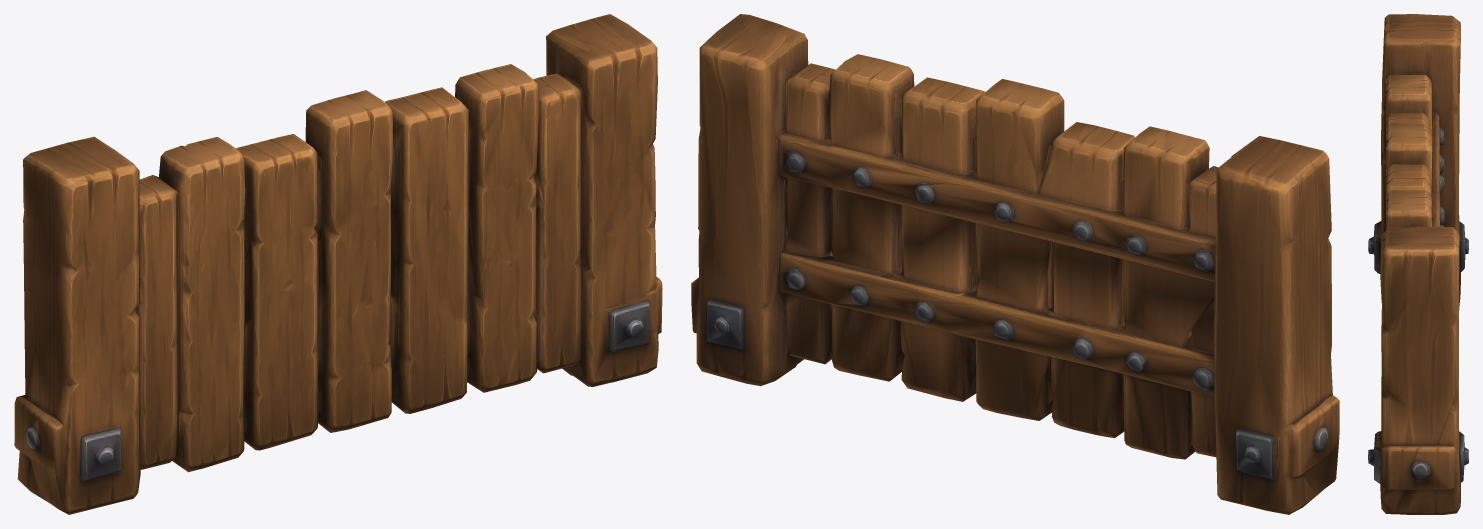
File: Fence1.fbx
3 renders of one model, left to right at view 1: azimuth 30°, elevation 25°; view 2: azimuth 150°, elevation 25°; view 3: azimuth 270°, elevation 25°, orthographic. The views are drawn at different scales.
Parts seen in each view (by area): view 1: Mesh_0; view 2: Mesh_0; view 3: Mesh_0.
Part boxes in pixels (box(x1,y1,x2,y2)): Mesh_0: box(14, 14, 662, 514); Mesh_0: box(691, 14, 1339, 514); Mesh_0: box(1368, 14, 1468, 514).
Size of the model in its own units: 191 by 98.67 by 33.36.
1 material, 1 textured.
